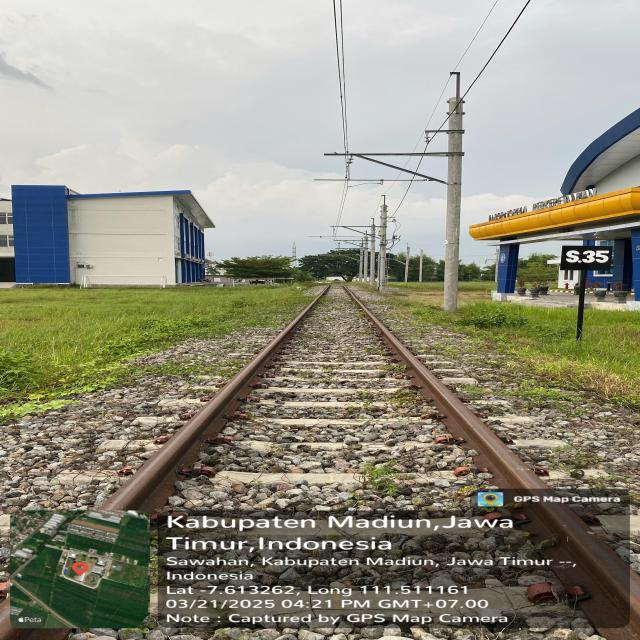rail-detection: (100, 286, 328, 511), (342, 286, 546, 495), (538, 508, 604, 565)
